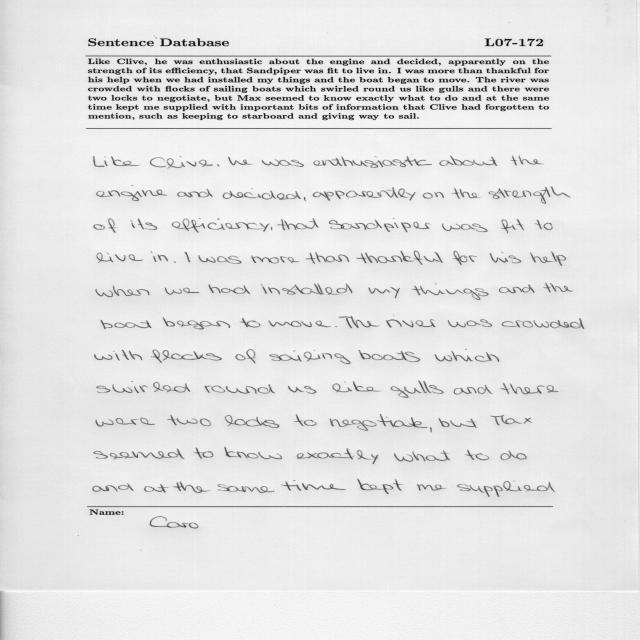word: (330, 414, 428, 431), (457, 480, 555, 497), (488, 186, 571, 204), (172, 218, 270, 233), (313, 187, 416, 201), (313, 156, 432, 168), (329, 219, 431, 233), (297, 448, 379, 464), (356, 251, 443, 265), (413, 284, 489, 300), (269, 350, 351, 364), (97, 381, 190, 393), (261, 283, 353, 295), (94, 449, 185, 460), (151, 349, 222, 363), (223, 188, 301, 200), (502, 318, 585, 329), (391, 381, 444, 398), (435, 349, 500, 362), (150, 156, 213, 169), (163, 318, 230, 330), (97, 190, 167, 201), (359, 350, 421, 362), (225, 415, 280, 428), (281, 480, 346, 491), (205, 384, 276, 394), (225, 447, 283, 459), (357, 479, 403, 494), (394, 450, 450, 462), (501, 383, 558, 394), (96, 286, 149, 297), (439, 156, 497, 166), (277, 218, 319, 231), (530, 251, 566, 266), (332, 381, 381, 392), (96, 418, 155, 427), (305, 252, 349, 264), (95, 350, 143, 361), (218, 484, 275, 493), (94, 156, 140, 167), (97, 252, 143, 263), (339, 316, 380, 328), (167, 415, 211, 426), (101, 320, 151, 329), (386, 319, 436, 328), (173, 481, 210, 493), (268, 321, 331, 328), (209, 284, 251, 294), (490, 415, 532, 425), (198, 255, 242, 264), (448, 319, 492, 328), (251, 256, 300, 264), (439, 418, 477, 428), (93, 483, 134, 492), (442, 224, 488, 232), (368, 287, 400, 298), (94, 218, 117, 233), (501, 219, 524, 234), (261, 159, 304, 167), (454, 385, 492, 394), (490, 252, 521, 263), (453, 251, 477, 265), (510, 156, 543, 166), (131, 218, 158, 230), (452, 188, 481, 199), (499, 285, 534, 294), (236, 349, 256, 364), (177, 189, 213, 197), (293, 414, 317, 426), (543, 283, 573, 292), (165, 288, 200, 295), (500, 451, 527, 460), (194, 447, 214, 459), (465, 450, 489, 460), (288, 386, 316, 394), (417, 484, 446, 491), (240, 318, 260, 328), (144, 484, 169, 492), (228, 157, 252, 165), (151, 251, 168, 262), (535, 220, 553, 230), (423, 192, 444, 199), (185, 252, 191, 262), (430, 427, 432, 432), (217, 164, 220, 167), (304, 197, 306, 201), (173, 261, 176, 263), (271, 227, 272, 230), (335, 326, 337, 327)
